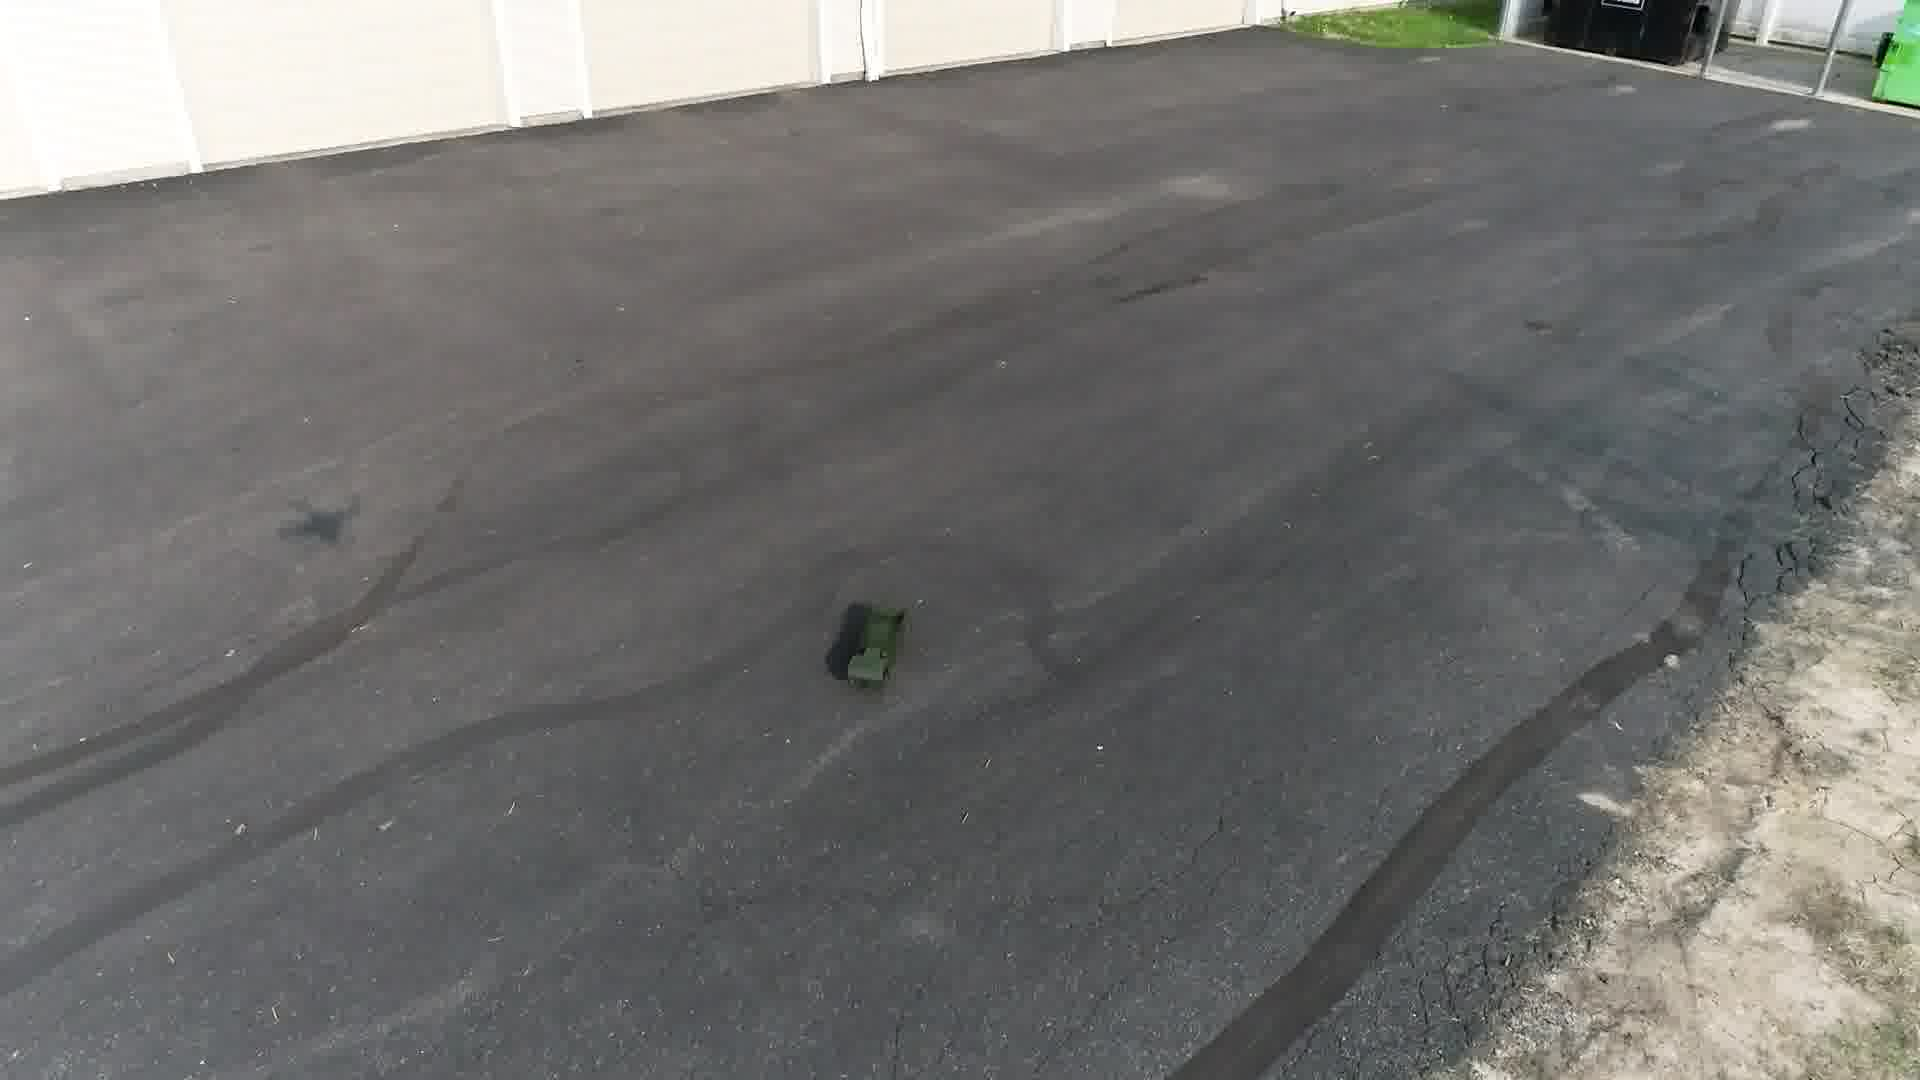transporter9: (832, 596, 919, 698)
